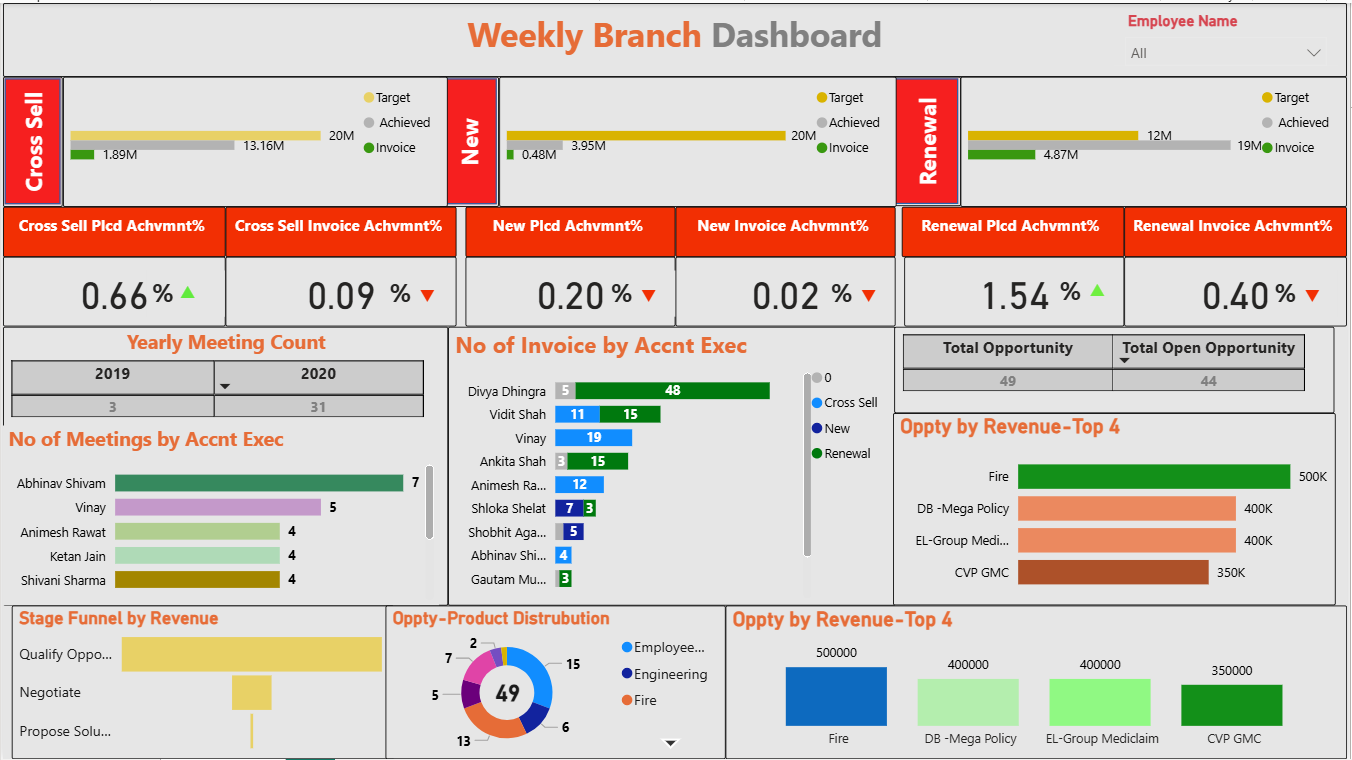

What the dashboard file says about the page in this screenshot:
{"tool":"powerbi","page":{"name":"Dashboard","canvas":[1280,720],"ordinal":0},"visuals":[{"type":"tableEx","title":"Yearly  Meeting Count","fields":{"Values":["meeting_list_202001231041.2019","meeting_list_202001231041.2020"]},"box":[0,308.3,423.8,265.5],"z":0,"group":"g1"},{"type":"barChart","title":"No of Invoice by Accnt Exec","fields":{"Category":["invoice_202001231041.Account Executive"],"Series":["invoice_202001231041.income_class"],"Y":["CountNonNull(invoice_202001231041.Account Exe ID)"]},"box":[423.8,308.3,426.2,265.5],"z":0},{"type":"donutChart","title":"Oppty-Product Distrubution","fields":{"Y":["CountNonNull(gcrm_opportunity_202001231041.opportunity_id)"],"Series":["gcrm_opportunity_202001231041.product_group"]},"box":[364.3,573.8,323.8,146.4],"z":0,"group":"g3"},{"type":"textbox","box":[0,0,1279.8,70.2],"z":1000},{"type":"barChart","title":"No of Meetings by Accnt Exec","fields":{"Y":["Dimension_AccountExecutive.count"],"Category":["meeting_list_202001231041.Account Executive"]},"box":[0,401.9,415.5,171.4],"z":1000,"group":"g1"},{"type":"card","fields":{"Values":["Dimension_AccountExecutive.Total Opptry"]},"box":[440.4,627.8,81,59.5],"z":1000,"group":"g3"},{"type":"slicer","fields":{"Values":["NN+EN+EE Indi bdgt -20012020.Employee Name"]},"box":[1058,4.1,212.7,56.3],"z":2000},{"type":"group","id":"g1","title":"Group 1","box":[0,308.3,423.8,265.5],"z":3000},{"type":"funnel","title":"Stage Funnel by Revenue","fields":{"Category":["gcrm_opportunity_202001231041.stage"],"Y":["Sum(gcrm_opportunity_202001231041.revenue_amount)"]},"box":[8.3,573.8,364.3,146.4],"z":4000},{"type":"barChart","title":"Oppty by Revenue-Top 4","fields":{"Category":["gcrm_opportunity_202001231041.opportunity_name"],"Y":["Sum(gcrm_opportunity_202001231041.revenue_amount)"]},"box":[847.6,390.4,421.4,183.2],"z":5000,"group":"g2"},{"type":"columnChart","title":"Oppty by Revenue-Top 4","fields":{"Category":["gcrm_opportunity_202001231041.opportunity_name"],"Y":["Sum(gcrm_opportunity_202001231041.revenue_amount)"]},"box":[688.1,573.8,591.7,146.4],"z":5000},{"type":"group","id":"g2","title":"Group 2","box":[847.6,308.3,421.4,265.5],"z":6000},{"type":"tableEx","fields":{"Values":["Dimension_AccountExecutive.Total Opptry","gcrm_opportunity_202001231041.top open"]},"box":[849.1,308.3,419,82.3],"z":6000,"group":"g2"},{"type":"group","id":"g3","title":"Group 3","box":[364.3,573.8,323.8,146.4],"z":7000},{"type":"shape","title":"Cross Sell","box":[0,70.2,57.1,123.8],"z":8000},{"type":"shape","title":"Cross Sell","box":[415.5,70.2,57.1,123.8],"z":9000},{"type":"shape","title":"Cross Sell","box":[848,70,64.5,123.5],"z":10000},{"type":"clusteredBarChart","fields":{"Y":["NN+EN+EE Indi bdgt -20012020.Cross sell Target","NN+EN+EE Indi bdgt -20012020.Cross sell Acheived","NN+EN+EE Indi bdgt -20012020.Cross sell Invoice"]},"box":[57.1,70.2,366.7,123.8],"z":11000},{"type":"clusteredBarChart","fields":{"Y":["NN+EN+EE Indi bdgt -20012020.New target","NN+EN+EE Indi bdgt -20012020.new acheievd","NN+EN+EE Indi bdgt -20012020.new invoice"]},"box":[472.6,70.2,378.6,123.8],"z":12000},{"type":"clusteredBarChart","fields":{"Y":["NN+EN+EE Indi bdgt -20012020.Renewal Target","NN+EN+EE Indi bdgt -20012020.Renewal Acheived","NN+EN+EE Indi bdgt -20012020.Renewal Invoice"]},"box":[911.9,70.2,367.9,123.8],"z":13000},{"type":"card","fields":{"Values":["NN+EN+EE Indi bdgt -20012020.Cross sell plcd Achvmt%"]},"box":[0,241.7,211.9,66.7],"z":13007,"group":"g4"},{"type":"card","fields":{"Values":["NN+EN+EE Indi bdgt -20012020.Cross sell invoice Achvmnt%"]},"box":[211.9,241.7,220.2,66.7],"z":13008,"group":"g5"},{"type":"card","fields":{"Values":["NN+EN+EE Indi bdgt -20012020.New Plcd Achvmnt%"]},"box":[440.5,241.7,200,66.7],"z":13009,"group":"g6"},{"type":"card","fields":{"Values":["NN+EN+EE Indi bdgt -20012020.New Invoice Achmnt%"]},"box":[640.5,241.7,209.5,66.7],"z":13010,"group":"g8"},{"type":"card","fields":{"Values":["NN+EN+EE Indi bdgt -20012020.Renewal Plcd Achmnt%"]},"box":[858.3,241.7,209.5,66.7],"z":13011,"group":"g7"},{"type":"card","fields":{"Values":["NN+EN+EE Indi bdgt -20012020.Renewal invoice Achmnt%"]},"box":[1067.9,241.7,211.9,66.7],"z":13012,"group":"g9"},{"type":"textbox","box":[137.2,255.3,74.1,43.9],"z":13013,"group":"g4"},{"type":"textbox","box":[363.6,255.3,67.2,43.9],"z":13015,"group":"g5"},{"type":"textbox","box":[573.6,255.3,67.2,43.9],"z":13016,"group":"g6"},{"type":"textbox","box":[783.6,255.3,64.5,43.9],"z":13016,"group":"g8"},{"type":"textbox","box":[1000.8,252.8,64.3,44],"z":13019,"group":"g7"},{"type":"textbox","box":[1206.2,255.3,64.5,43.9],"z":13019,"group":"g9"},{"type":"textbox","box":[0,194,211.9,47.6],"z":14000},{"type":"textbox","box":[211.9,194,220.2,47.6],"z":15000},{"type":"textbox","box":[440.5,194,200,47.6],"z":16000},{"type":"textbox","box":[640.5,194,209.5,47.6],"z":17000},{"type":"textbox","box":[856,194,211.9,47.6],"z":18000},{"type":"textbox","box":[1067.9,194,211.9,47.6],"z":19000},{"type":"group","id":"g4","title":"Group 4","box":[0,241.7,211.9,66.7],"z":20000},{"type":"group","id":"g5","title":"Group 5","box":[211.9,241.7,220.2,66.7],"z":21000},{"type":"group","id":"g6","title":"Group 6","box":[440.5,241.7,200.3,66.7],"z":22000},{"type":"group","id":"g7","title":"Group 7","box":[858.3,241.7,209.5,66.7],"z":23000},{"type":"group","id":"g8","title":"Group 8","box":[640.5,241.7,209.5,66.7],"z":24000},{"type":"group","id":"g9","title":"Group 9","box":[1067.9,241.7,211.9,66.7],"z":25000}]}

Visuals, with their boxes in screenshot pixels (x1, y1, x2, y2), scaled from the page's 1280x720 canvas onto the 1352x760 screenshot:
"Yearly  Meeting Count" tableEx: bbox=(0, 325, 448, 606)
"No of Invoice by Accnt Exec" barChart: bbox=(448, 325, 898, 606)
"Oppty-Product Distrubution" donutChart: bbox=(385, 606, 727, 759)
textbox: bbox=(0, 0, 1351, 74)
"No of Meetings by Accnt Exec" barChart: bbox=(0, 424, 439, 605)
card - Dimension_AccountExecutive.Total Opptry: bbox=(465, 663, 551, 725)
slicer - NN+EN+EE Indi bdgt -20012020.Employee Name: bbox=(1118, 4, 1342, 64)
"Group 1" group: bbox=(0, 325, 448, 606)
"Stage Funnel by Revenue" funnel: bbox=(9, 606, 394, 759)
"Oppty by Revenue-Top 4" barChart: bbox=(895, 412, 1340, 605)
"Oppty by Revenue-Top 4" columnChart: bbox=(727, 606, 1351, 759)
"Group 2" group: bbox=(895, 325, 1340, 606)
tableEx - Dimension_AccountExecutive.Total Opptry x gcrm_opportunity_202001231041.top open: bbox=(897, 325, 1339, 412)
"Group 3" group: bbox=(385, 606, 727, 759)
"Cross Sell" shape: bbox=(0, 74, 60, 205)
"Cross Sell" shape: bbox=(439, 74, 499, 205)
"Cross Sell" shape: bbox=(896, 74, 964, 204)
clusteredBarChart - NN+EN+EE Indi bdgt -20012020.Cross sell Target x NN+EN+EE Indi bdgt -20012020.Cross sell Acheived: bbox=(60, 74, 448, 205)
clusteredBarChart - NN+EN+EE Indi bdgt -20012020.New target x NN+EN+EE Indi bdgt -20012020.new acheievd: bbox=(499, 74, 899, 205)
clusteredBarChart - NN+EN+EE Indi bdgt -20012020.Renewal Target x NN+EN+EE Indi bdgt -20012020.Renewal Acheived: bbox=(963, 74, 1351, 205)
card - NN+EN+EE Indi bdgt -20012020.Cross sell plcd Achvmt%: bbox=(0, 255, 224, 326)
card - NN+EN+EE Indi bdgt -20012020.Cross sell invoice Achvmnt%: bbox=(224, 255, 456, 326)
card - NN+EN+EE Indi bdgt -20012020.New Plcd Achvmnt%: bbox=(465, 255, 677, 326)
card - NN+EN+EE Indi bdgt -20012020.New Invoice Achmnt%: bbox=(677, 255, 898, 326)
card - NN+EN+EE Indi bdgt -20012020.Renewal Plcd Achmnt%: bbox=(907, 255, 1128, 326)
card - NN+EN+EE Indi bdgt -20012020.Renewal invoice Achmnt%: bbox=(1128, 255, 1351, 326)
textbox: bbox=(145, 269, 223, 316)
textbox: bbox=(384, 269, 455, 316)
textbox: bbox=(606, 269, 677, 316)
textbox: bbox=(828, 269, 896, 316)
textbox: bbox=(1057, 267, 1125, 313)
textbox: bbox=(1274, 269, 1342, 316)
textbox: bbox=(0, 205, 224, 255)
textbox: bbox=(224, 205, 456, 255)
textbox: bbox=(465, 205, 677, 255)
textbox: bbox=(677, 205, 898, 255)
textbox: bbox=(904, 205, 1128, 255)
textbox: bbox=(1128, 205, 1351, 255)
"Group 4" group: bbox=(0, 255, 224, 326)
"Group 5" group: bbox=(224, 255, 456, 326)
"Group 6" group: bbox=(465, 255, 677, 326)
"Group 7" group: bbox=(907, 255, 1128, 326)
"Group 8" group: bbox=(677, 255, 898, 326)
"Group 9" group: bbox=(1128, 255, 1351, 326)
